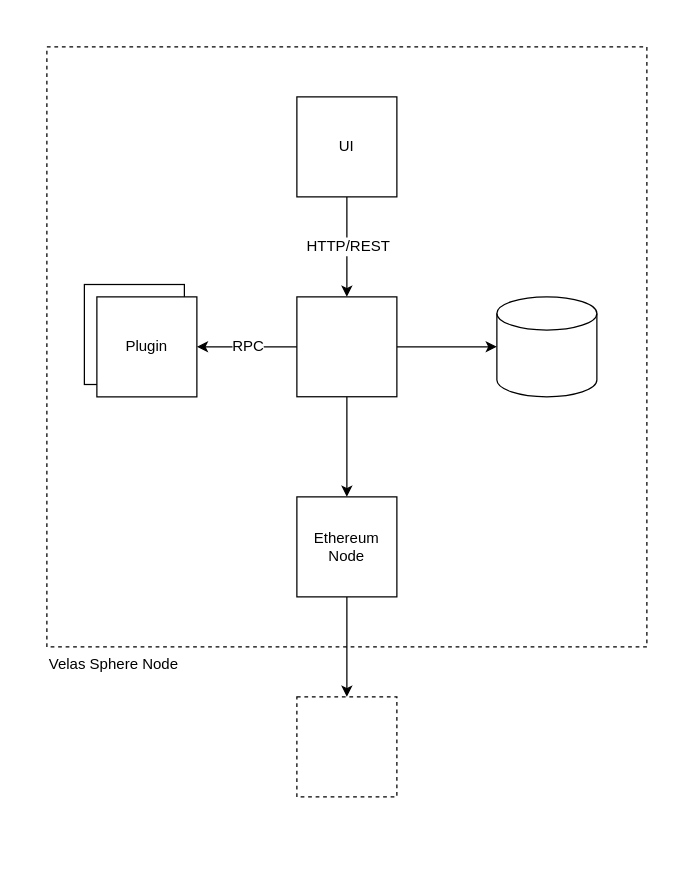
This 693x893 diagram has some shape labels left out. Each missing label, with the centre of its shape:
"Ethereum Network" belongs at (346,746).
"LevelDB" belongs at (546,346).
"Node Service" belongs at (346,346).
